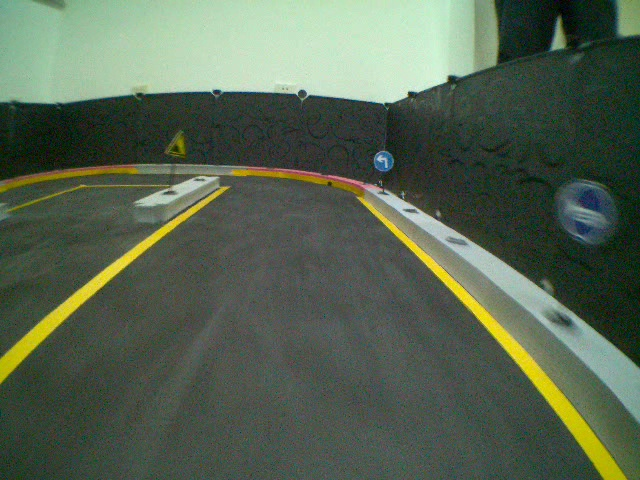fast: (163, 128, 189, 159)
horn: (552, 178, 622, 246)
turn: (371, 149, 396, 175)
